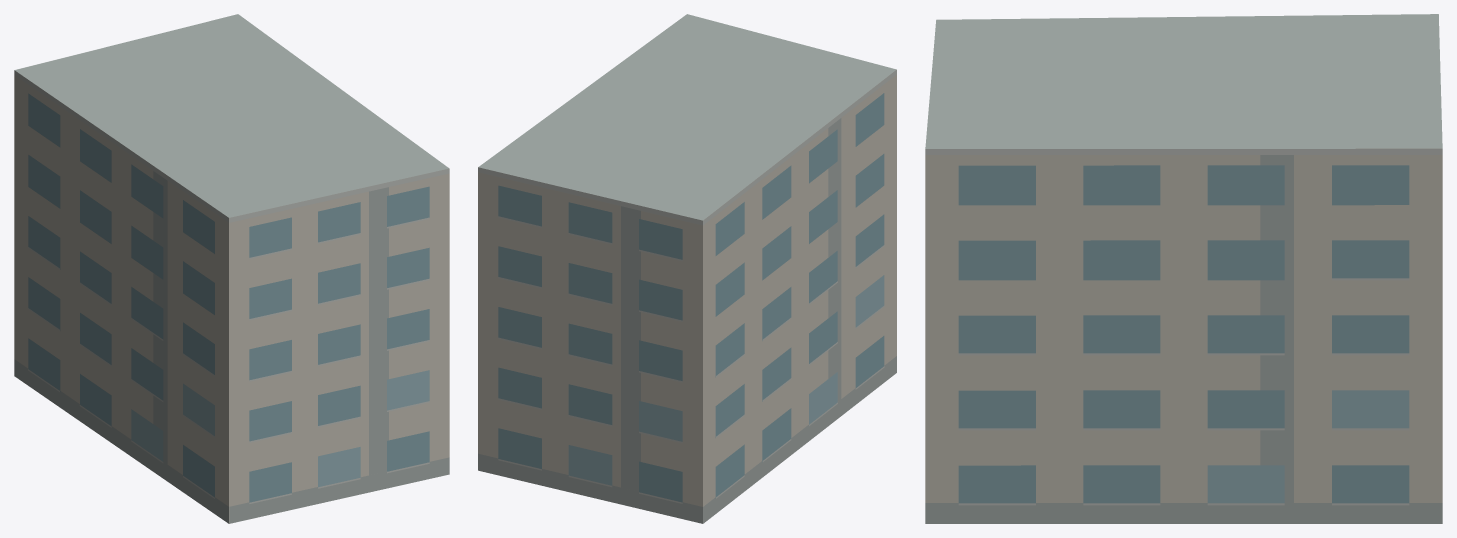
Rendered from survey-upis-32965581.glb.
The picture shows the model from 3 angles, left to right: view 1: azimuth 30°, elevation 25°; view 2: azimuth 150°, elevation 25°; view 3: azimuth 270°, elevation 25°; orthographic projection. The views are drawn at different scales.
Parts seen in each view (by area): view 1: survey-upis-32965581.tmp; view 2: survey-upis-32965581.tmp; view 3: survey-upis-32965581.tmp.
Part boxes in pixels (left/top/right/bottom): survey-upis-32965581.tmp: left=14, top=14, right=449, bottom=523; survey-upis-32965581.tmp: left=478, top=14, right=896, bottom=523; survey-upis-32965581.tmp: left=925, top=14, right=1442, bottom=523.
Size of the model in its own units: 11.44 by 14.8 by 18.52.
